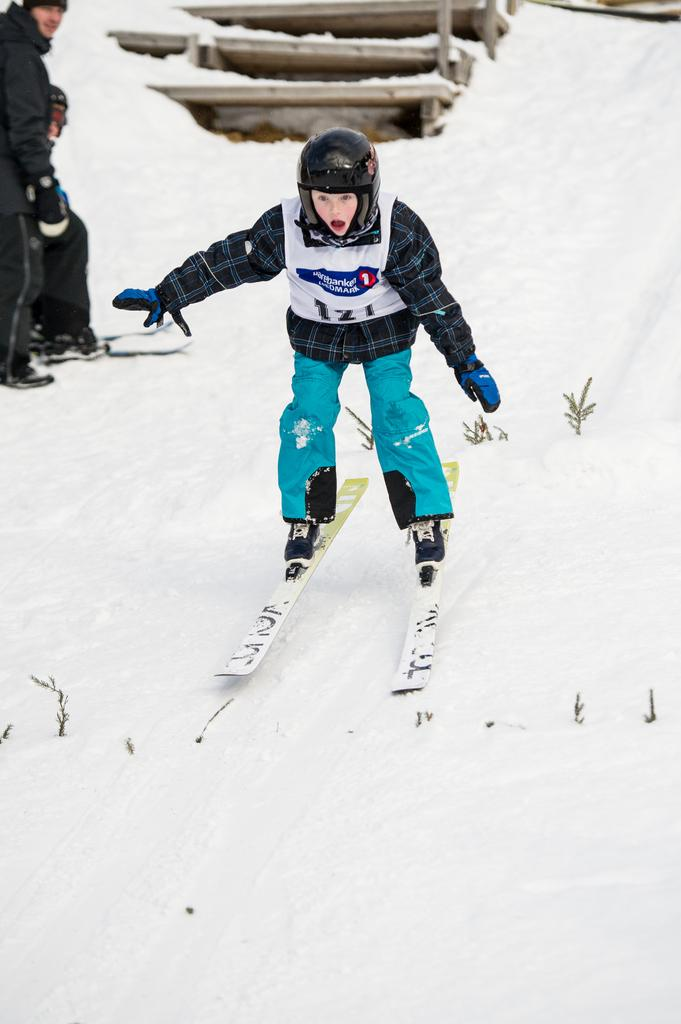helmet: (296, 126, 381, 228)
